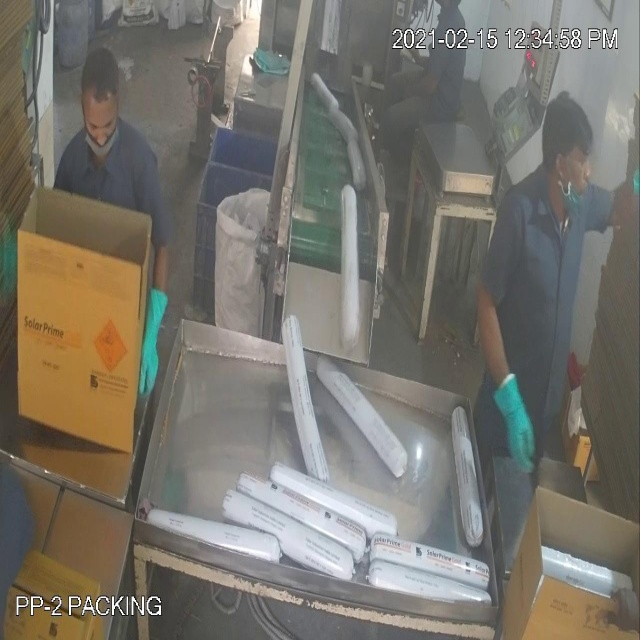Guantes: (485, 357, 544, 485), (124, 270, 171, 404)
